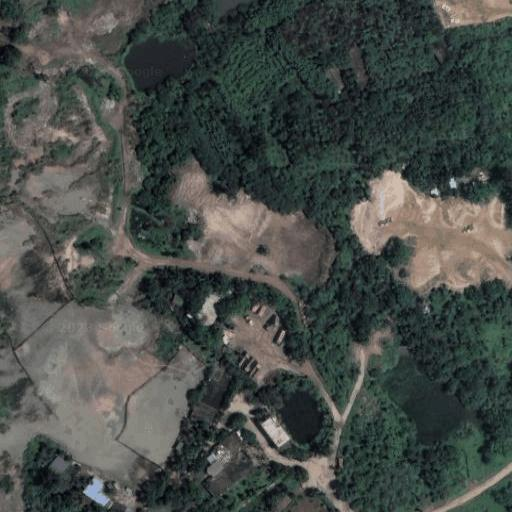building: (193, 369, 232, 428), (192, 286, 229, 328), (211, 434, 245, 465), (83, 476, 113, 510), (261, 417, 290, 450), (47, 454, 71, 480), (206, 460, 224, 479), (219, 324, 238, 338), (112, 501, 132, 512), (172, 292, 183, 305), (207, 455, 216, 464)
